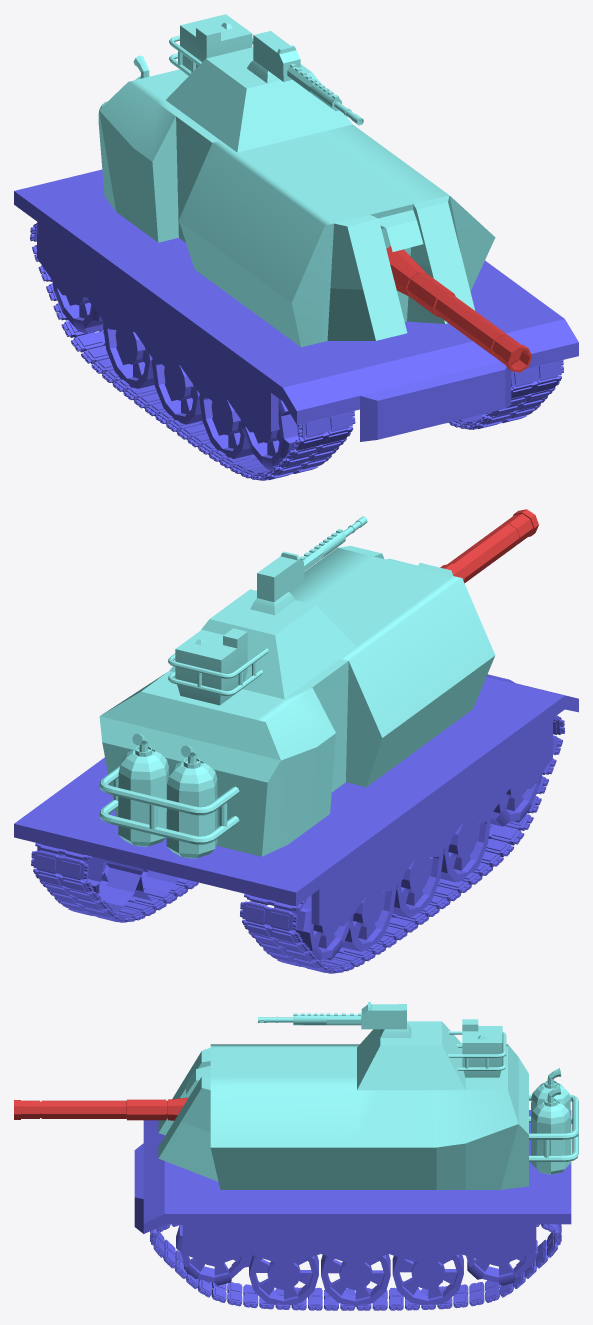
Rendered from mo_Tank.fbx.
The picture shows the model from 3 angles, top to bottom: view 1: azimuth 30°, elevation 25°; view 2: azimuth 150°, elevation 25°; view 3: azimuth 270°, elevation 25°; orthographic projection. The views are drawn at different scales.
Parts seen in each view (by area): view 1: scn_Tank1:head_geo, scn_Tank1:body_geo, scn_Tank1:canon; view 2: scn_Tank1:head_geo, scn_Tank1:body_geo, scn_Tank1:canon; view 3: scn_Tank1:head_geo, scn_Tank1:body_geo, scn_Tank1:canon.
Part boxes in pixels (bbox=[...]): scn_Tank1:head_geo: bbox=[98, 14, 495, 347]; scn_Tank1:body_geo: bbox=[14, 169, 578, 480]; scn_Tank1:canon: bbox=[386, 246, 532, 372]; scn_Tank1:head_geo: bbox=[99, 516, 495, 858]; scn_Tank1:body_geo: bbox=[14, 674, 578, 973]; scn_Tank1:canon: bbox=[440, 509, 538, 583]; scn_Tank1:head_geo: bbox=[158, 1002, 578, 1189]; scn_Tank1:body_geo: bbox=[134, 1110, 571, 1310]; scn_Tank1:canon: bbox=[14, 1097, 188, 1120].
Bounding box in the file's own units: 74.37 × 85.98 × 170.
